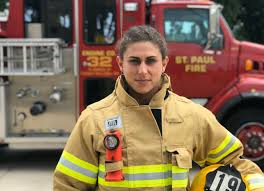emergent: (67, 27, 238, 191)
